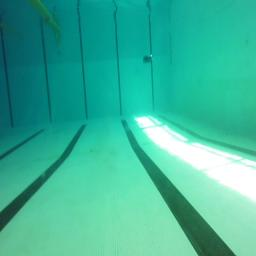Full: (142, 54, 154, 63)
